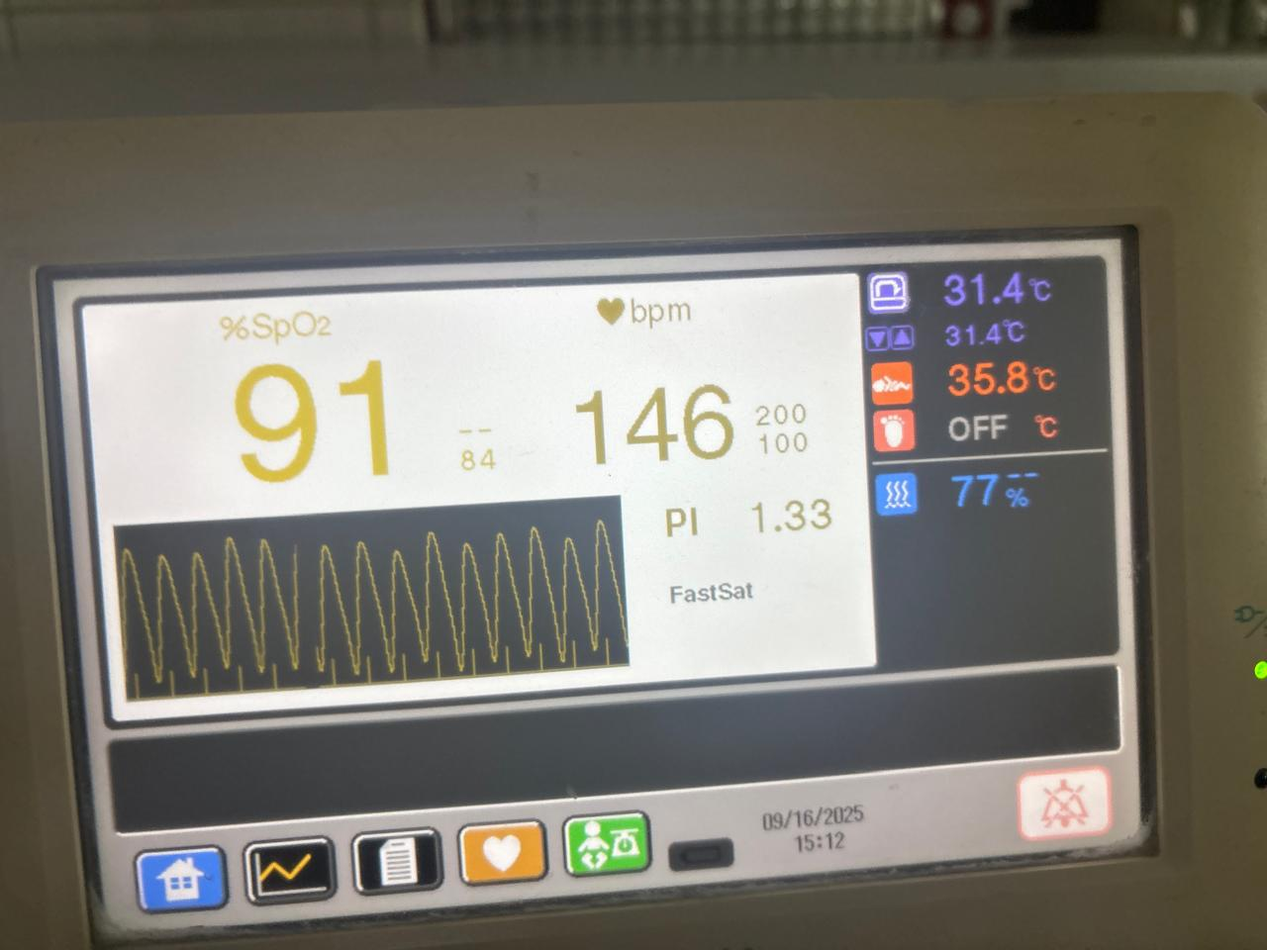air_temp_value: (922, 258, 1034, 319)
heart_rate_value: (558, 367, 755, 481)
humidity_value: (934, 462, 1004, 518)
skin_temp_value: (929, 354, 1033, 408)
spo2_value: (210, 361, 424, 491)
